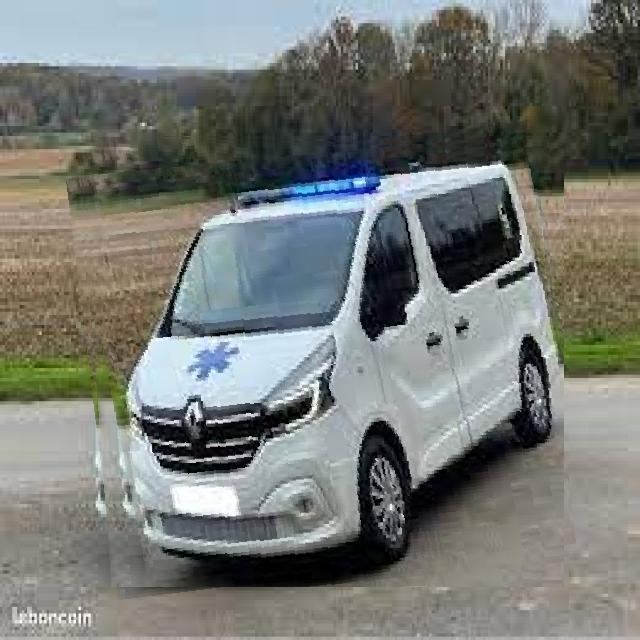ambulance: (78, 134, 564, 587)
